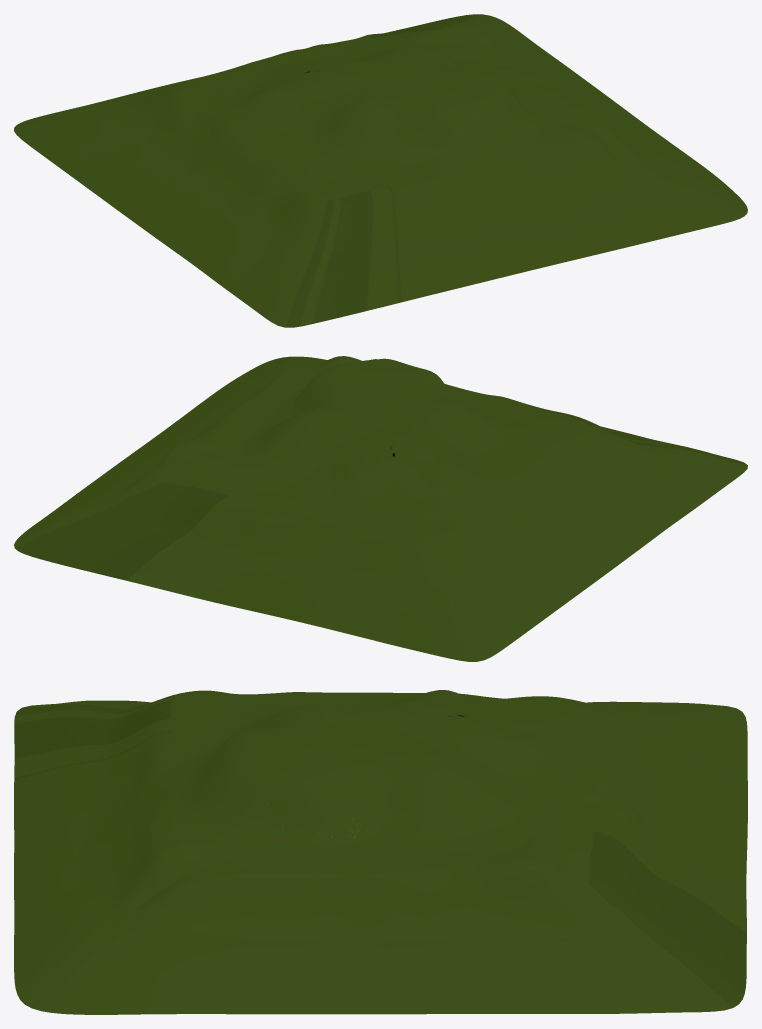
File: large_island_extd.glb
The picture shows the model from 3 angles, top to bottom: view 1: azimuth 30°, elevation 25°; view 2: azimuth 150°, elevation 25°; view 3: azimuth 270°, elevation 25°; orthographic projection. The views are drawn at different scales.
Parts seen in each view (by area): view 1: island; view 2: island; view 3: island.
Boxes of the visible parts, <box> form: island: <box>14,14,747,327</box>; island: <box>14,356,747,661</box>; island: <box>14,690,747,1014</box>.
Size of the model in its own units: 26.44 by 5.32 by 26.45.
